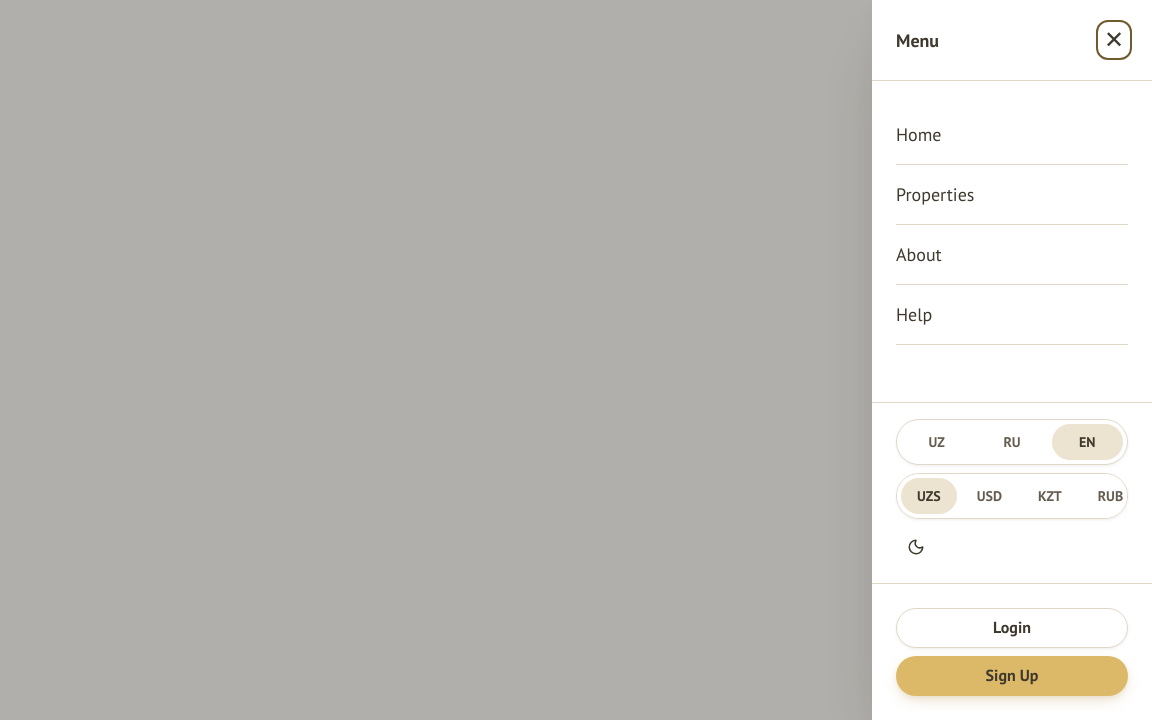
Test case: MobileMenu › language and currency on phones › switches the menu text and the page language
Step 1. Click the button with aria-label "Русский" → [1012, 442], box [976, 424, 1048, 460]
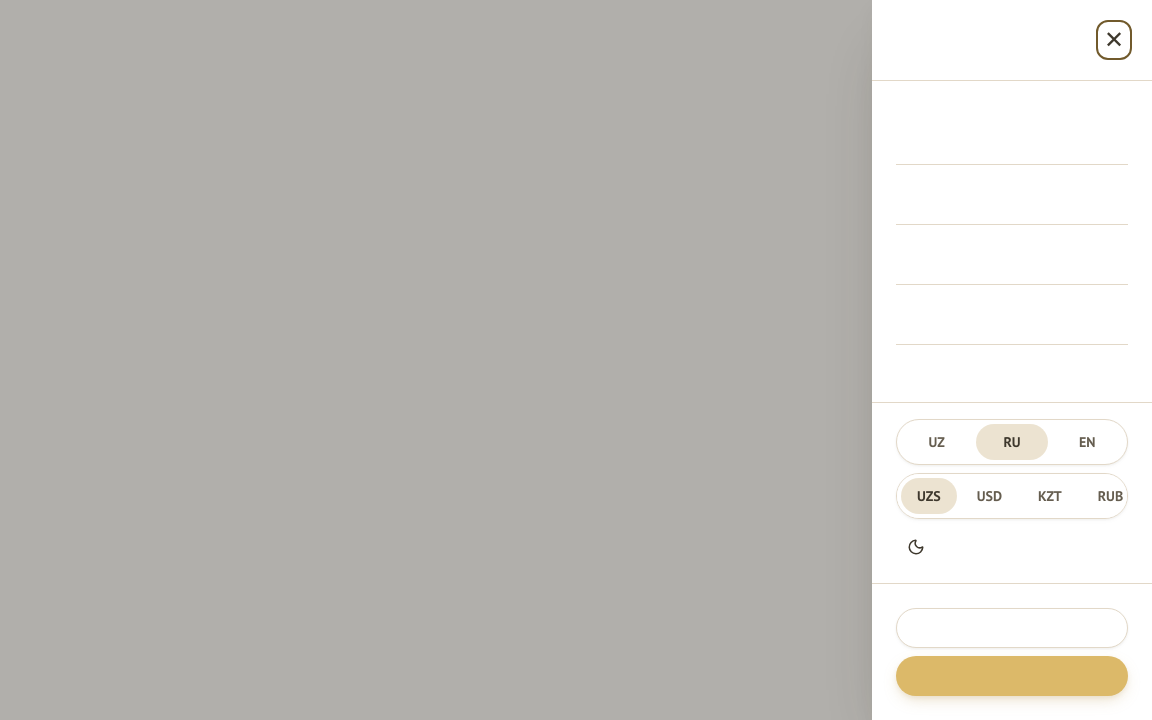
Expected: the link "Главная" is shown, [896, 105, 1128, 165]
Expected: the element named "Язык" is shown, [896, 419, 1128, 465]
